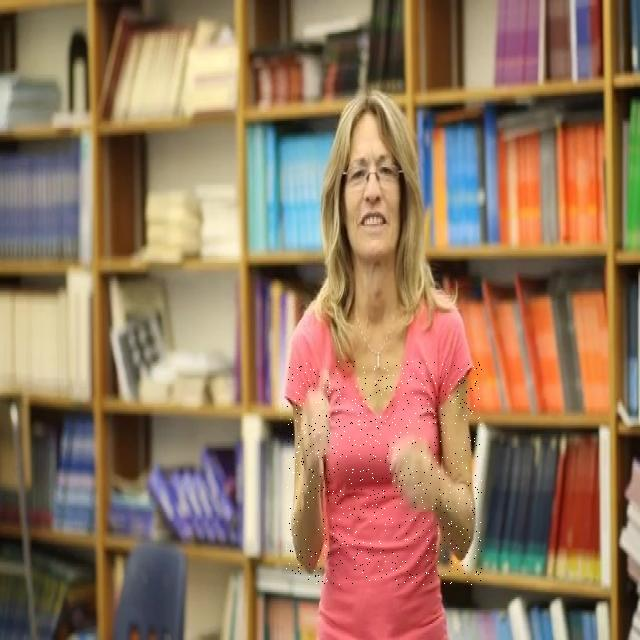cold: (286, 361, 482, 585)
